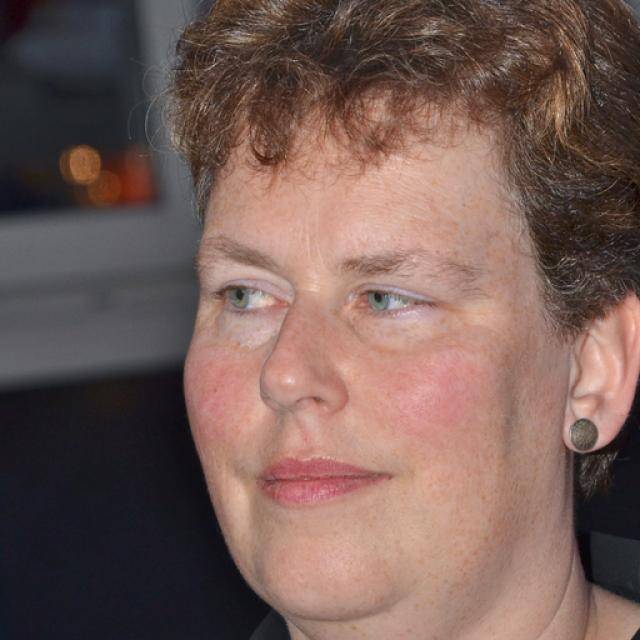content: (180, 84, 569, 628)
